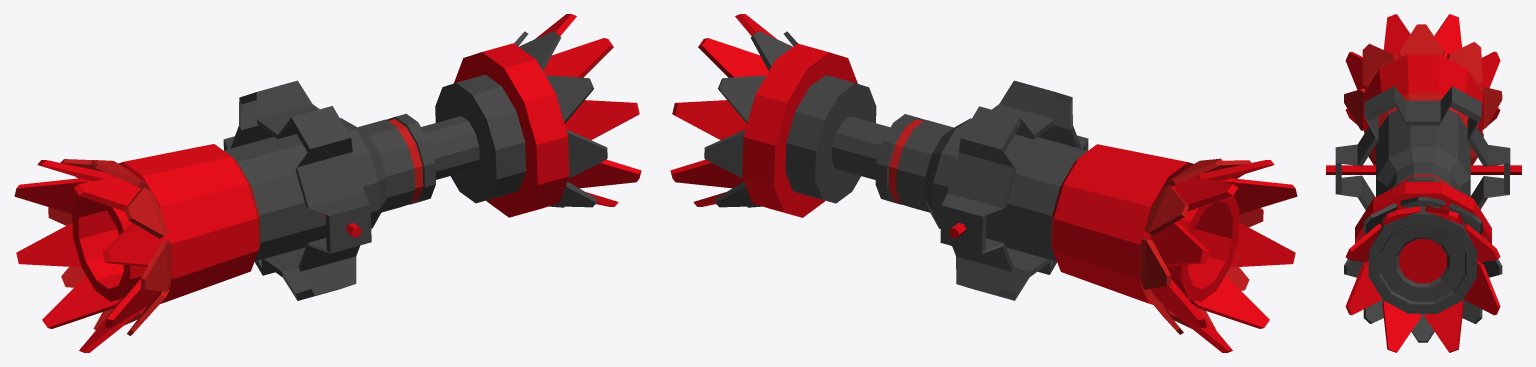
Rendered from altar.glb.
3 renders of one model, left to right at view 1: azimuth 30°, elevation 25°; view 2: azimuth 150°, elevation 25°; view 3: azimuth 270°, elevation 25°, orthographic. The views are drawn at different scales.
Visible parts, largest first — view 1: Props_Laser; view 2: Props_Laser; view 3: Props_Laser.
Boxes of the visible parts, bbox=[...] form: Props_Laser: bbox=[14, 14, 641, 352]; Props_Laser: bbox=[670, 14, 1297, 352]; Props_Laser: bbox=[1326, 14, 1521, 352].
Bounding box in the file's own units: 3.84 × 1.29 × 1.46.
